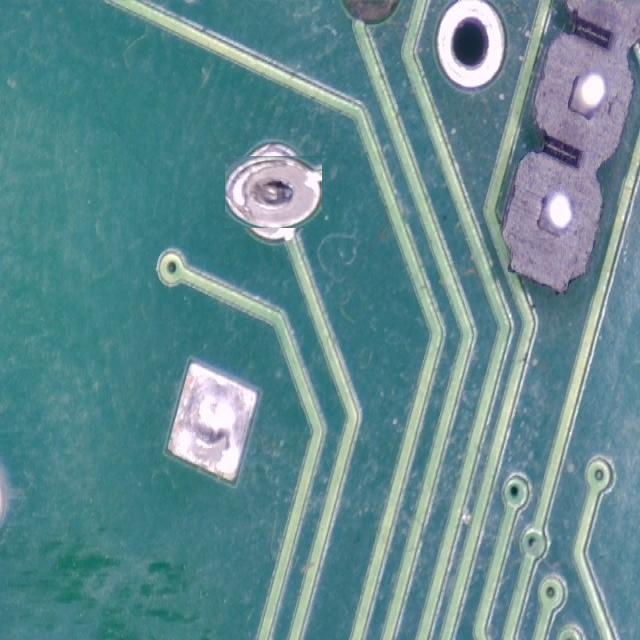Dry_joint: (225, 155, 321, 228)
